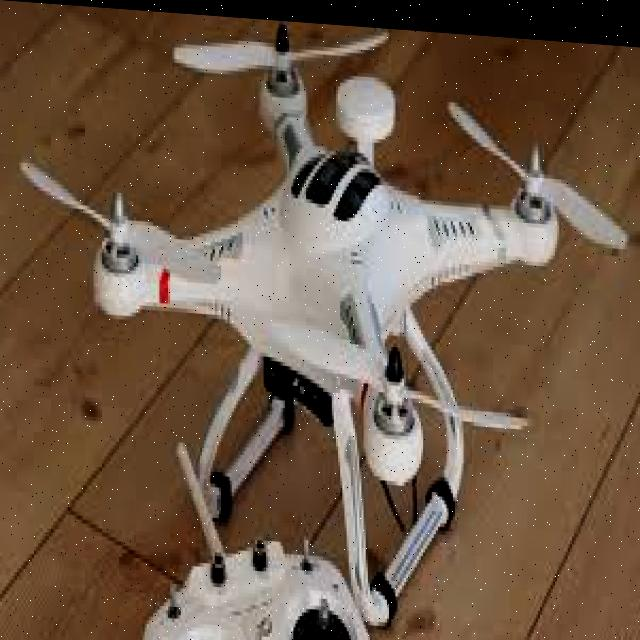drone: (38, 2, 596, 633)
